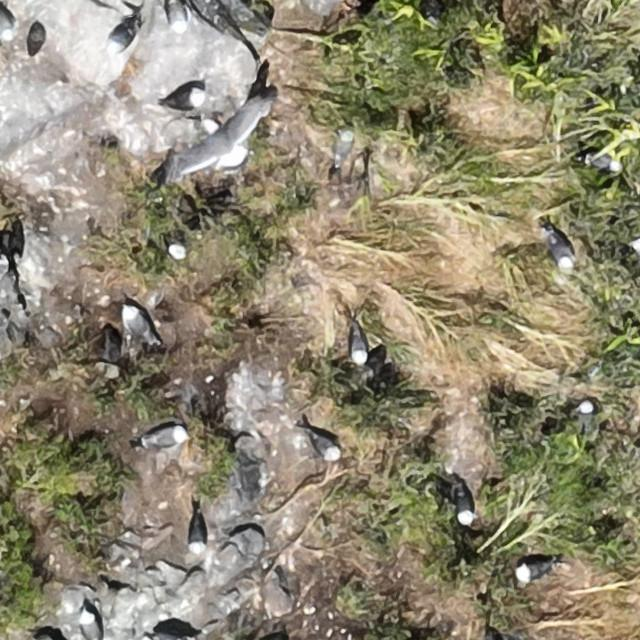F: (171, 97, 273, 170)
umineko: (311, 432, 339, 460), (147, 427, 186, 447), (123, 306, 148, 337), (548, 234, 572, 266), (162, 90, 199, 108), (516, 562, 549, 582), (0, 4, 18, 40), (584, 154, 619, 172), (455, 492, 473, 525), (349, 330, 366, 363), (190, 517, 206, 551), (335, 130, 351, 163), (82, 613, 100, 640), (110, 28, 133, 49), (574, 402, 591, 428), (167, 240, 186, 260)
